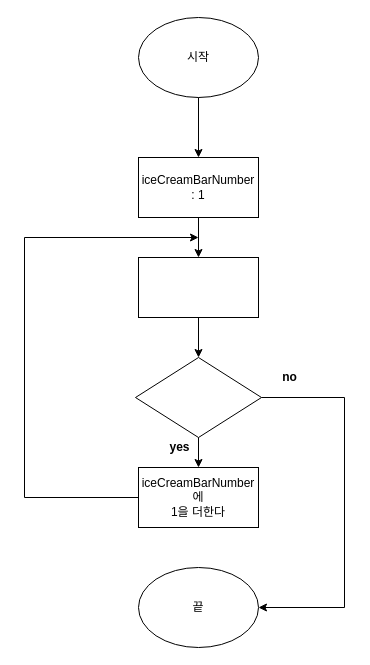
Image size: 370x665. Some labels were removed from this diagram. Each missing label, with the centre of its shape:
" | | " 출력: [198,287]
iceCreamBarNumber가 4보다 작은가?: [198,397]
